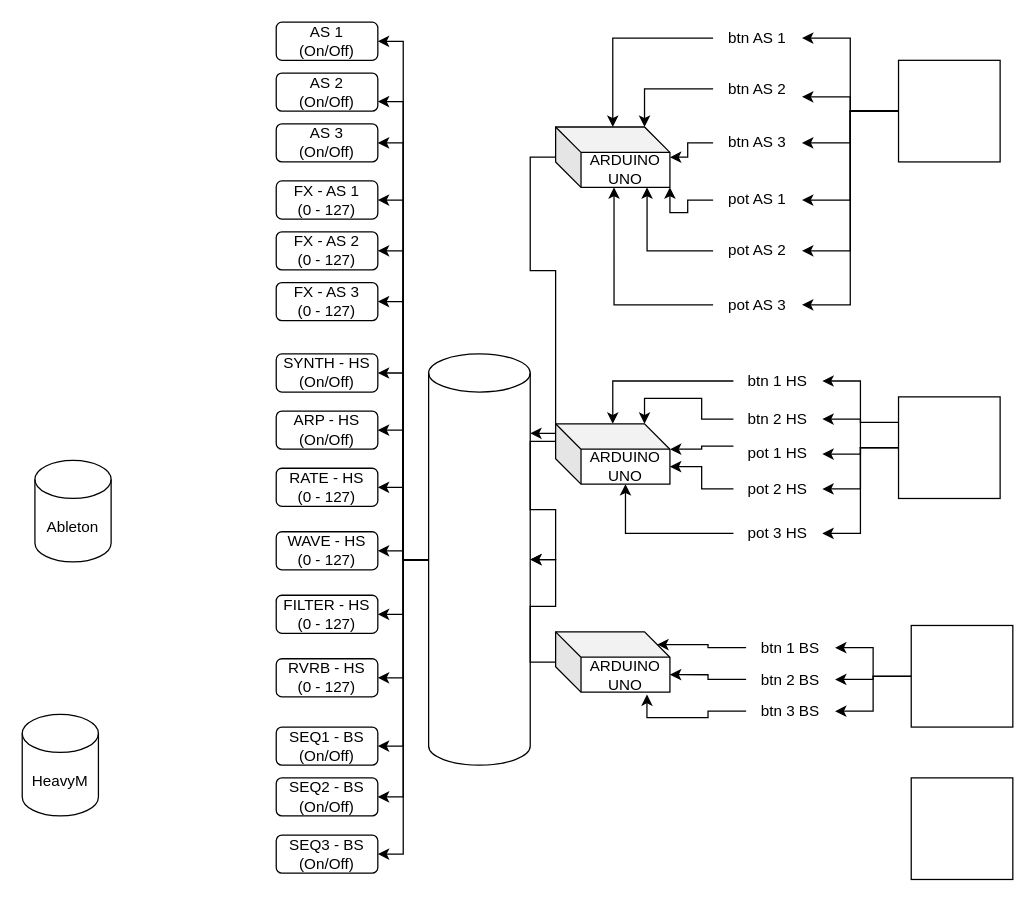
Some shapes in this 1035 by 902 pixel diagram are drawn without their labels. Each missing label, with the centre of its shape:
CONTROLER Ambiant Synth: pixel 948 110
CONTROLER Bass Synth: pixel 961 675
CONTROLER Drums: pixel 961 828
CONTROLER Harmony Synth: pixel 948 447
MIDI CONTROL DOXA: pixel 478 559
